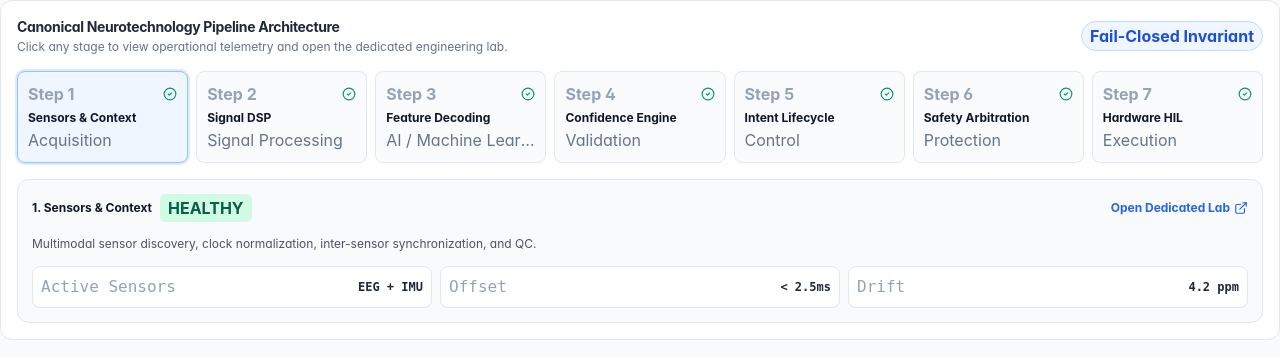
Test: Phase 24.1 Competition Product Frontend Components › PipelineOverview Component › changes selected stage details when stage button is clicked
This screenshot has width=1280, height=357.
Click the text "Signal DSP" at (239,118), box left=207, top=110, right=271, bottom=125
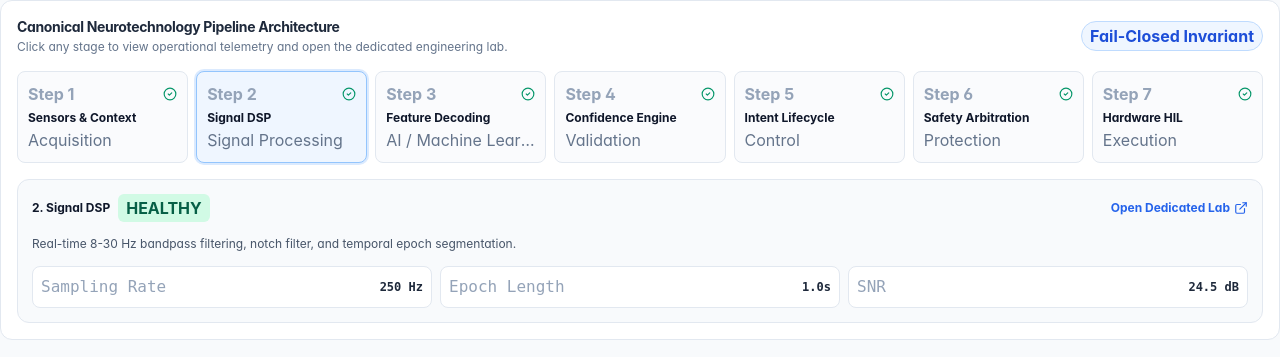
Now the text "Real-time 8-30 Hz bandpass filtering" is shown, box left=32, top=236, right=516, bottom=251
